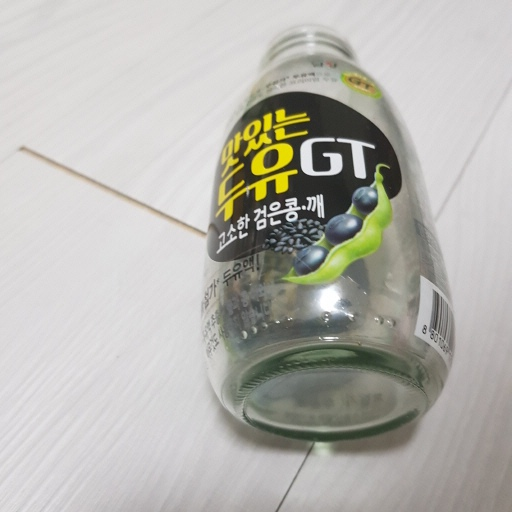Glass_4: (192, 25, 458, 429)
